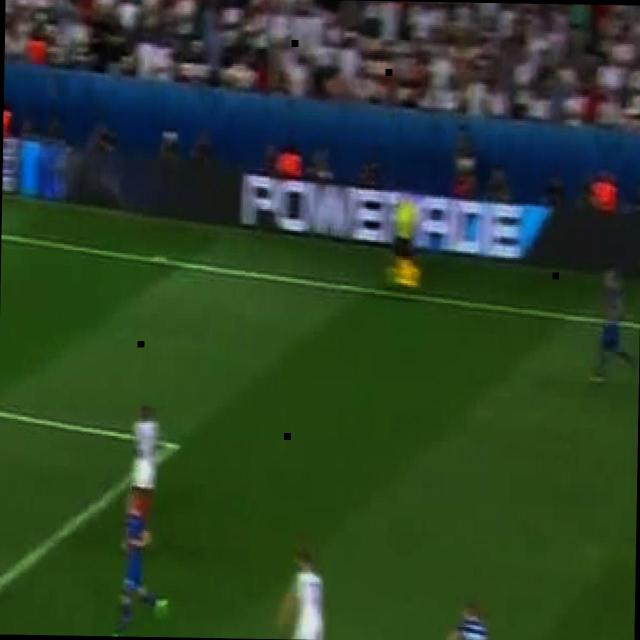player-white: (108, 493, 169, 637), (590, 267, 636, 384), (273, 550, 329, 640), (124, 400, 158, 544), (388, 187, 418, 296), (444, 599, 487, 640)
